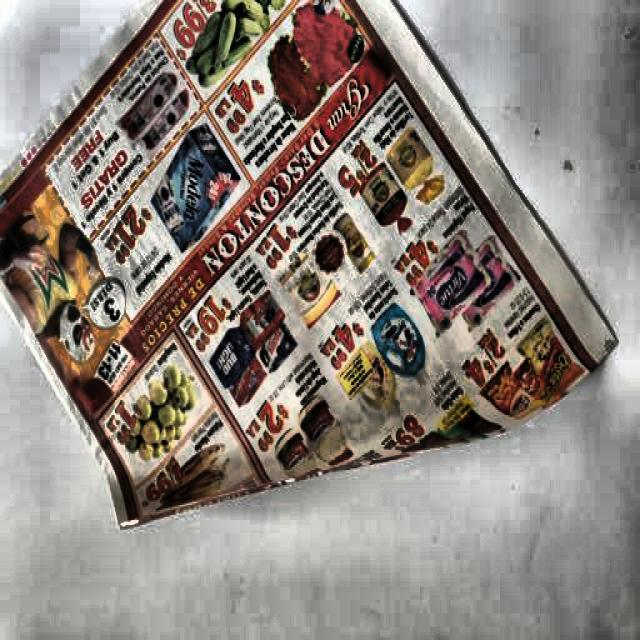paper: (0, 5, 605, 532)
